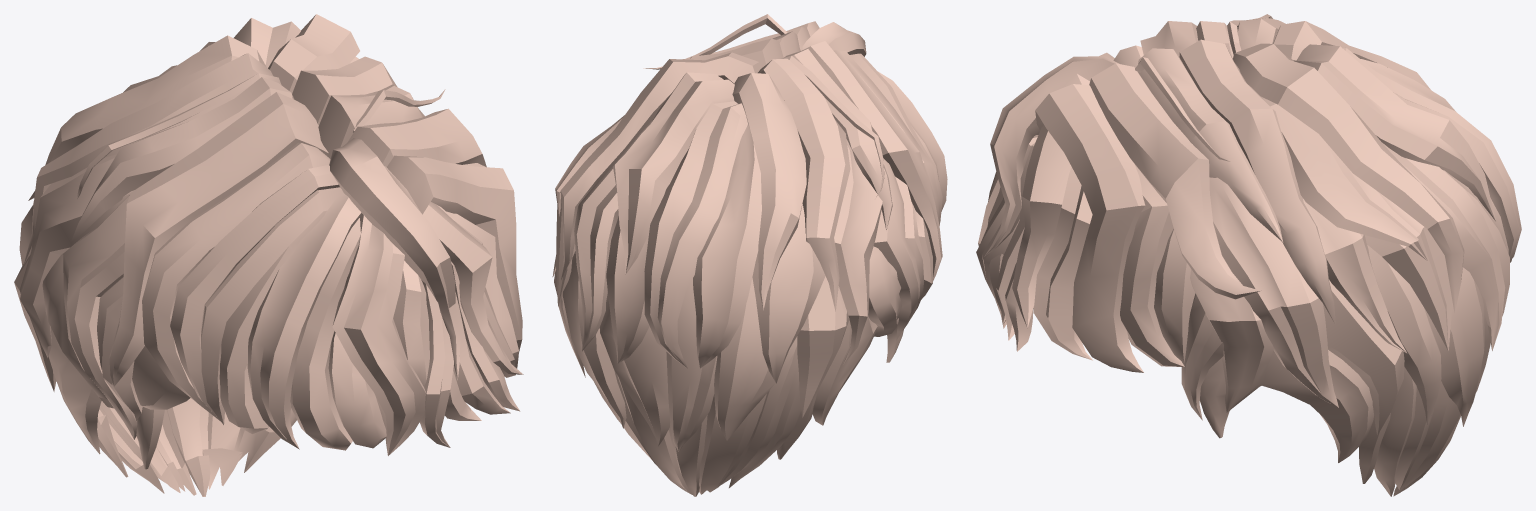
The model's file is Hair_20.fbx.
3 views of the same model, side by side, from view 1: azimuth 30°, elevation 25°; view 2: azimuth 150°, elevation 25°; view 3: azimuth 270°, elevation 25° (orthographic). The views are drawn at different scales.
Parts seen in each view (by area): view 1: Hair_20; view 2: Hair_20; view 3: Hair_20.
Part boxes in pixels (x1,y1,x2,y2): Hair_20: [14, 14, 523, 496]; Hair_20: [552, 14, 947, 496]; Hair_20: [976, 14, 1521, 496].
Bounding box in the file's own units: 2.17 × 2.52 × 2.69.
